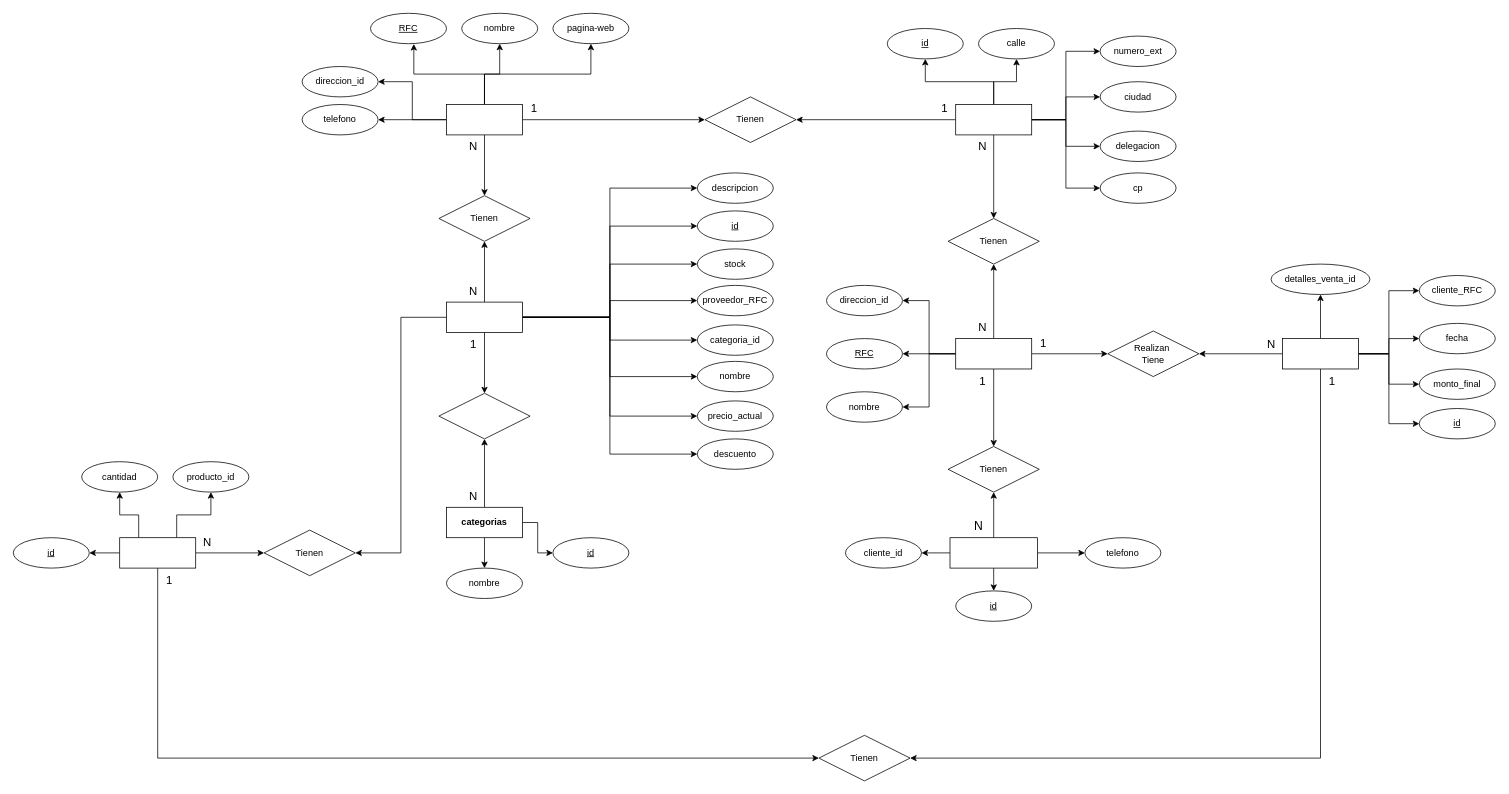
Image size: 1509x794. Some labels were removed from this diagram. Each missing label, with the box of its shape:
clientes: (955, 338, 1032, 369)
detalles_ventas: (119, 537, 196, 568)
direcciones: (955, 104, 1032, 135)
productos: (446, 301, 522, 332)
proveedores: (446, 104, 522, 135)
telefonos_clientes: (949, 537, 1037, 568)
Tiene: (438, 393, 530, 439)
Ventas: (1282, 338, 1358, 369)
